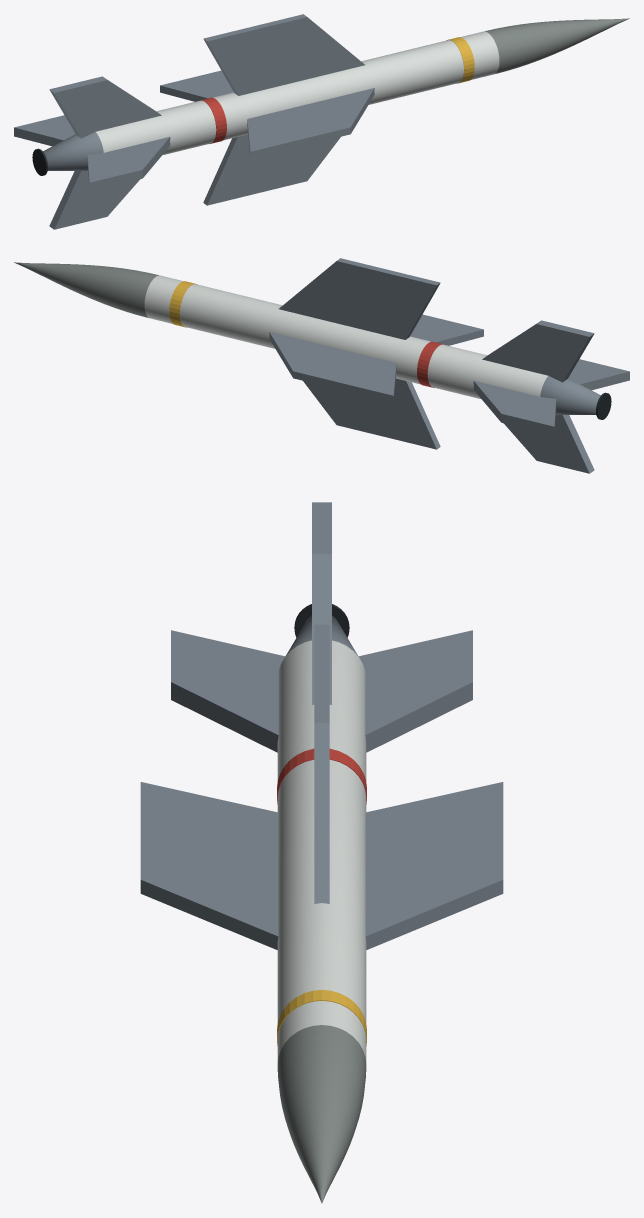
The model's file is cw90_osa_m.glb.
3 views of the same model, one above another, from view 1: azimuth 30°, elevation 25°; view 2: azimuth 150°, elevation 25°; view 3: azimuth 270°, elevation 25° (orthographic). The views are drawn at different scales.
Visible parts, largest first — view 1: cw90_osa_m; view 2: cw90_osa_m; view 3: cw90_osa_m.
Boxes of the visible parts, x1,y1,x2,y2 form: cw90_osa_m: [14, 14, 629, 229]; cw90_osa_m: [14, 258, 629, 473]; cw90_osa_m: [140, 502, 503, 1203].
Bounding box in the file's own units: 10 × 2.66 × 2.66.
